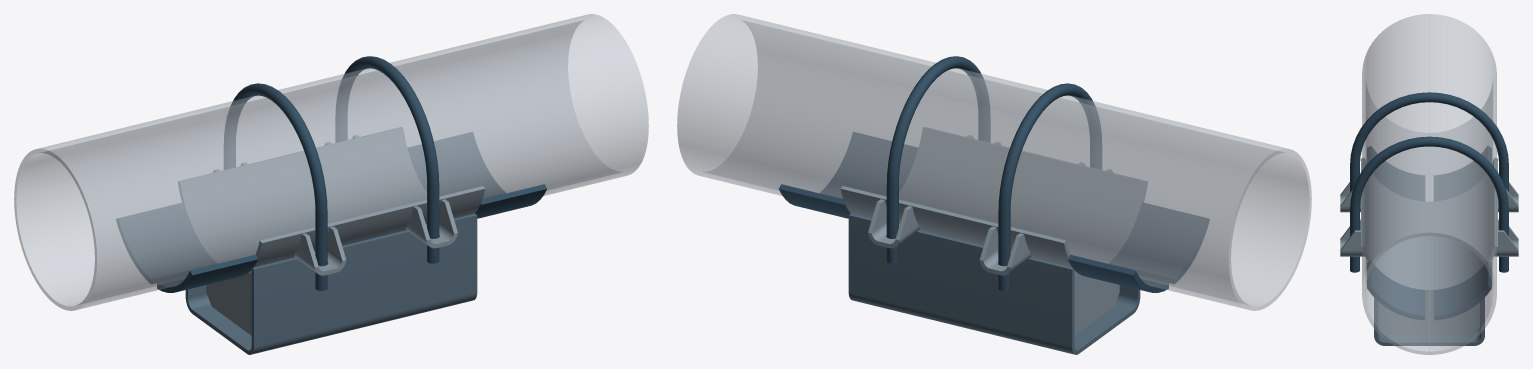
The model's file is TS-670.00.00-18-opora-dn219-H100.glb.
3 renders of one model, left to right at view 1: azimuth 30°, elevation 25°; view 2: azimuth 150°, elevation 25°; view 3: azimuth 270°, elevation 25°, orthographic. The views are drawn at different scales.
Visible parts, largest first — view 1: truba, podushka_0, skoba_1, upor_-1_1, homut_1, homut_-1, upor_1_1, rebro_2, upor_-1_-1, ushko_8, ushko_6, upor_1_-1; view 2: truba, podushka_0, skoba_1, upor_-1_-1, homut_1, homut_-1, upor_1_-1, rebro_2, upor_-1_1, ushko_7, ushko_5, upor_1_1; view 3: truba, podushka_0, homut_1, homut_-1, rebro_4, upor_1_1, upor_1_-1, skoba_1, upor_-1_1, upor_-1_-1, ushko_5, ushko_6 (+2 smaller).
Part boxes in pixels (x1,y1,x2,y2): truba: [14, 14, 648, 310]; podushka_0: [178, 127, 484, 273]; skoba_1: [185, 213, 477, 354]; upor_-1_1: [116, 202, 216, 283]; homut_1: [335, 56, 439, 263]; homut_-1: [224, 83, 327, 290]; upor_1_1: [408, 132, 505, 198]; rebro_2: [206, 272, 251, 335]; upor_-1_-1: [157, 254, 258, 292]; ushko_8: [294, 226, 346, 275]; ushko_6: [406, 199, 457, 248]; upor_1_-1: [475, 184, 546, 218]; truba: [677, 14, 1311, 310]; podushka_0: [841, 127, 1147, 273]; skoba_1: [848, 213, 1140, 354]; upor_-1_-1: [1109, 202, 1209, 283]; homut_1: [886, 56, 990, 263]; homut_-1: [998, 83, 1101, 290]; upor_1_-1: [820, 132, 917, 198]; rebro_2: [1074, 272, 1119, 335]; upor_-1_1: [1067, 254, 1168, 292]; ushko_7: [979, 226, 1031, 275]; ushko_5: [868, 199, 919, 248]; upor_1_1: [779, 184, 850, 218]; truba: [1362, 14, 1496, 354]; podushka_0: [1361, 158, 1497, 293]; homut_1: [1350, 136, 1508, 272]; homut_-1: [1350, 92, 1508, 191]; rebro_4: [1378, 293, 1480, 335]; upor_1_1: [1433, 261, 1491, 320]; upor_1_-1: [1367, 261, 1425, 320]; skoba_1: [1374, 297, 1484, 345]; upor_-1_1: [1434, 146, 1491, 200]; upor_-1_-1: [1367, 146, 1424, 200]; ushko_5: [1494, 219, 1518, 256]; ushko_6: [1340, 219, 1364, 256].
Size of the model in its own units: 840 by 334 by 290.
